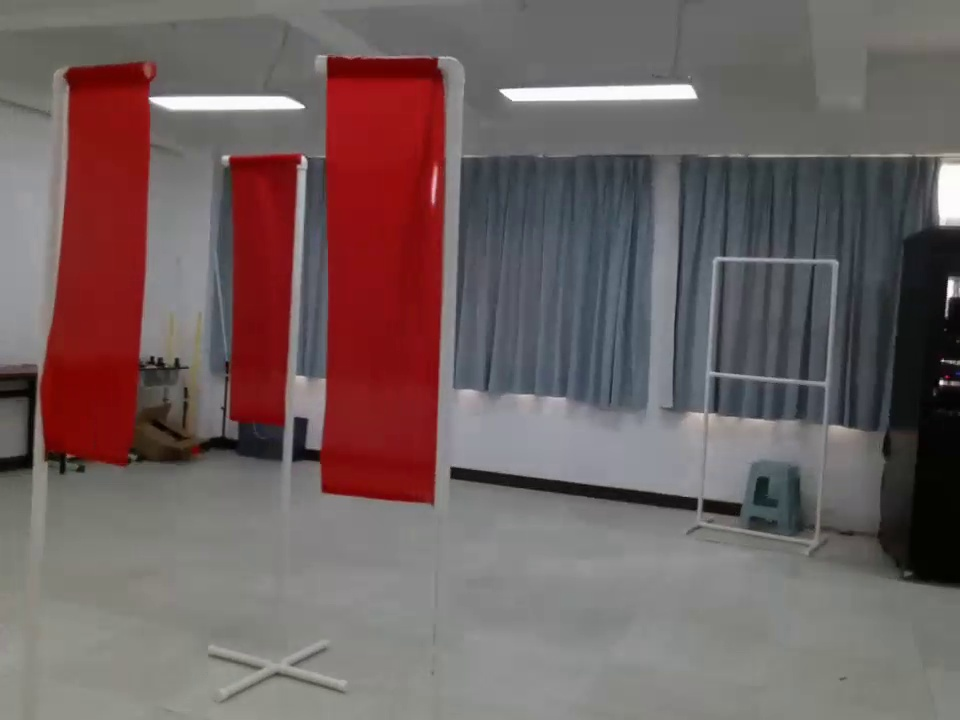qi: (311, 45, 466, 527), (30, 52, 150, 477), (220, 151, 299, 446)
